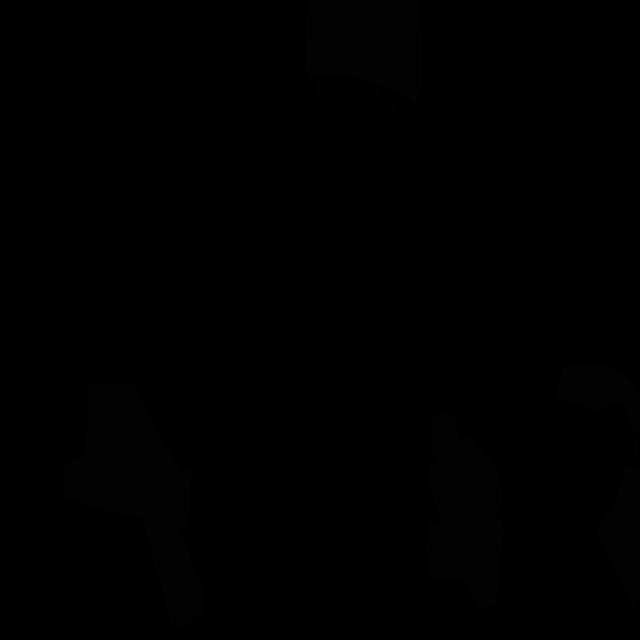cardboard: (62, 383, 205, 628), (427, 408, 504, 607), (305, 0, 422, 106), (596, 433, 640, 606), (555, 362, 640, 433)
rigid_plastic: (314, 76, 399, 160)
